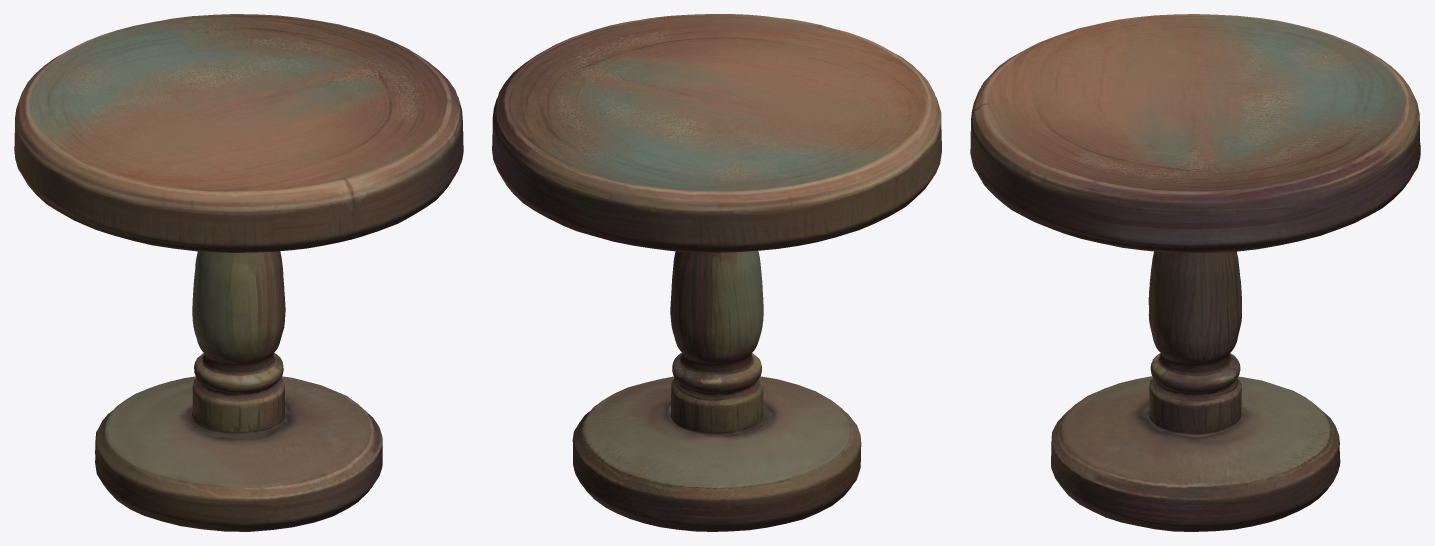
Rendered from Furn_TeaTable.fbx.
The picture shows the model from 3 angles, left to right: view 1: azimuth 30°, elevation 25°; view 2: azimuth 150°, elevation 25°; view 3: azimuth 270°, elevation 25°; orthographic projection.
Parts seen in each view (by area): view 1: texture_mapping; view 2: texture_mapping; view 3: texture_mapping.
Boxes of the visible parts, bbox=[...] form: texture_mapping: bbox=[14, 14, 463, 531]; texture_mapping: bbox=[492, 14, 941, 531]; texture_mapping: bbox=[970, 14, 1420, 531].
Bounding box in the file's own units: 0.9981 × 0.9975 × 0.9107.
1 material, 1 textured.
